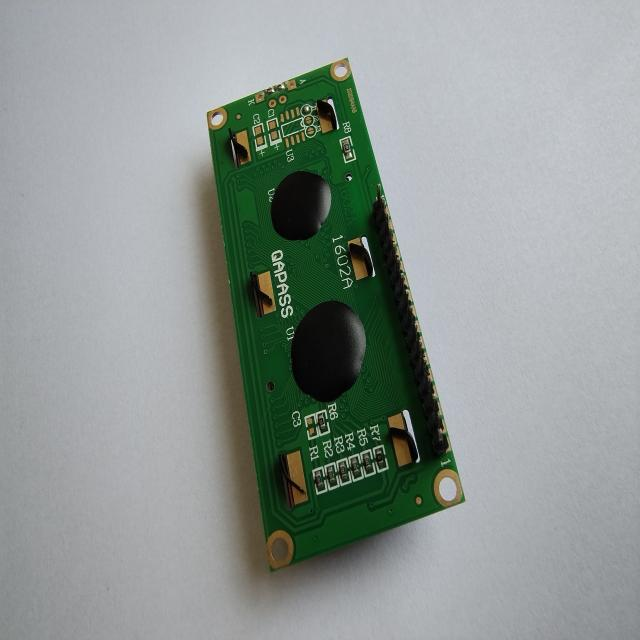lcd: (205, 56, 466, 573)
